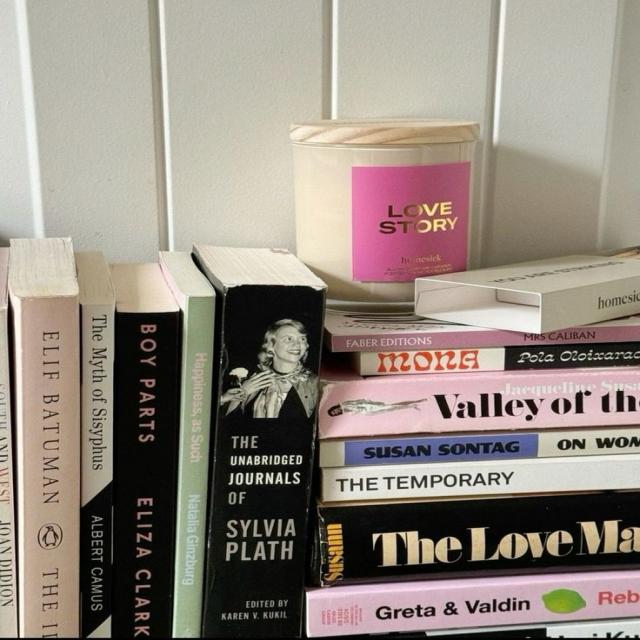book: (209, 289, 324, 640), (314, 492, 639, 585), (319, 368, 639, 439), (305, 569, 639, 637), (114, 310, 173, 633), (25, 295, 78, 640), (321, 453, 639, 502), (327, 310, 639, 352), (319, 429, 639, 467), (355, 342, 639, 376), (82, 305, 110, 640), (184, 299, 201, 640)
candle: (291, 120, 478, 301)
